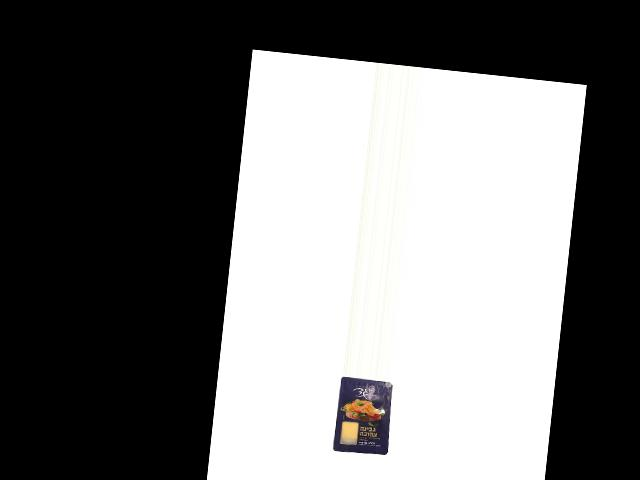cheese: (332, 375, 397, 456)
